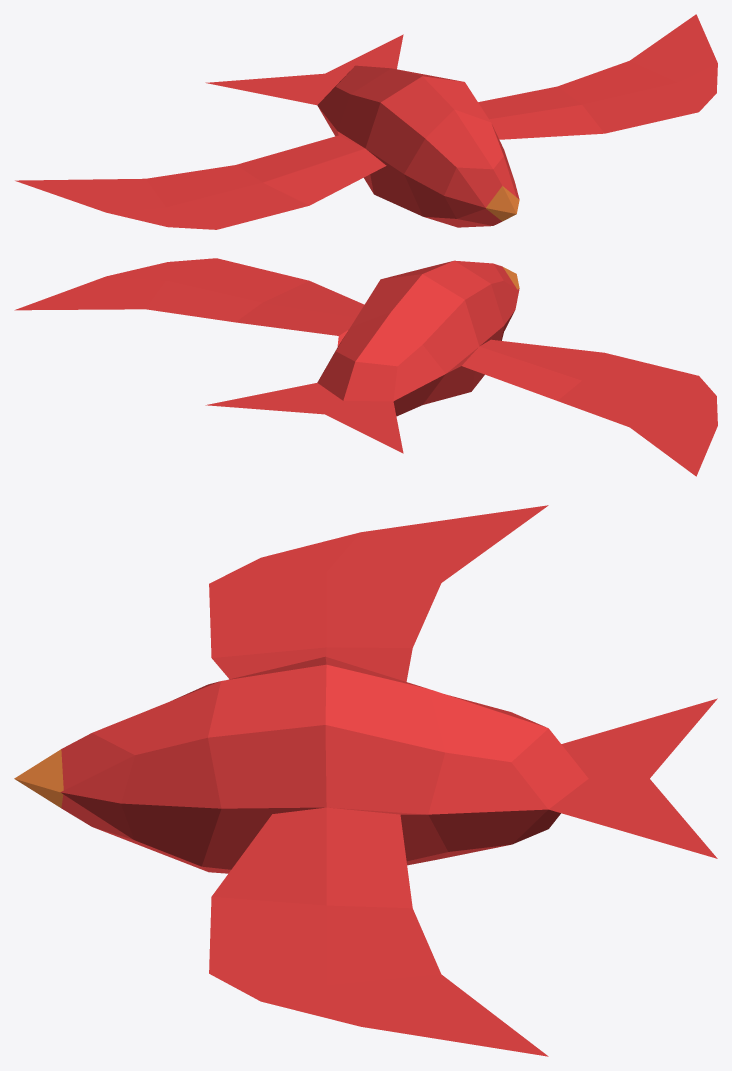
Rendered from bird.glb.
3 renders of one model, top to bottom at view 1: azimuth 30°, elevation 25°; view 2: azimuth 150°, elevation 25°; view 3: azimuth 270°, elevation 25°, orthographic. The views are drawn at different scales.
Visible parts, largest first — view 1: Cube; view 2: Cube; view 3: Cube.
Boxes of the visible parts, x1,y1,x2,y2 form: Cube: [15, 14, 717, 229]; Cube: [14, 258, 717, 476]; Cube: [14, 505, 717, 1056].
Bounding box in the file's own units: 4.69 × 0.8568 × 2.53.
